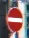No entry: (5, 6, 24, 33)
